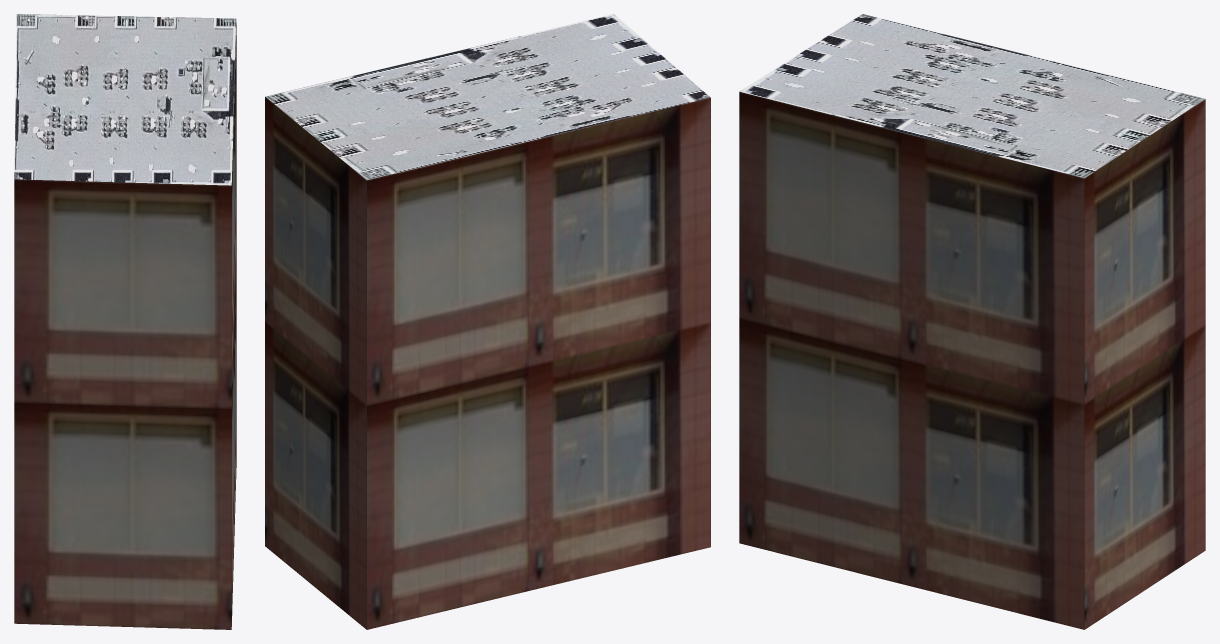
File: ResTex__3088.fbx
3 views of the same model, side by side, from view 1: azimuth 30°, elevation 25°; view 2: azimuth 150°, elevation 25°; view 3: azimuth 270°, elevation 25° (orthographic).
Parts seen in each view (by area): view 1: CityEngineMaterial_13_m, CityEngineMaterial_8_m; view 2: CityEngineMaterial_13_m, CityEngineMaterial_8_m; view 3: CityEngineMaterial_13_m, CityEngineMaterial_8_m.
Part boxes in pixels (x1,y1,x2,y2): CityEngineMaterial_13_m: [14, 23, 236, 629]; CityEngineMaterial_8_m: [14, 14, 236, 185]; CityEngineMaterial_13_m: [265, 97, 710, 629]; CityEngineMaterial_8_m: [265, 14, 710, 180]; CityEngineMaterial_13_m: [739, 92, 1205, 629]; CityEngineMaterial_8_m: [739, 14, 1204, 178].
Size of the model in its own units: 4.68 by 6 by 5.62.
2 materials, 2 textured.
